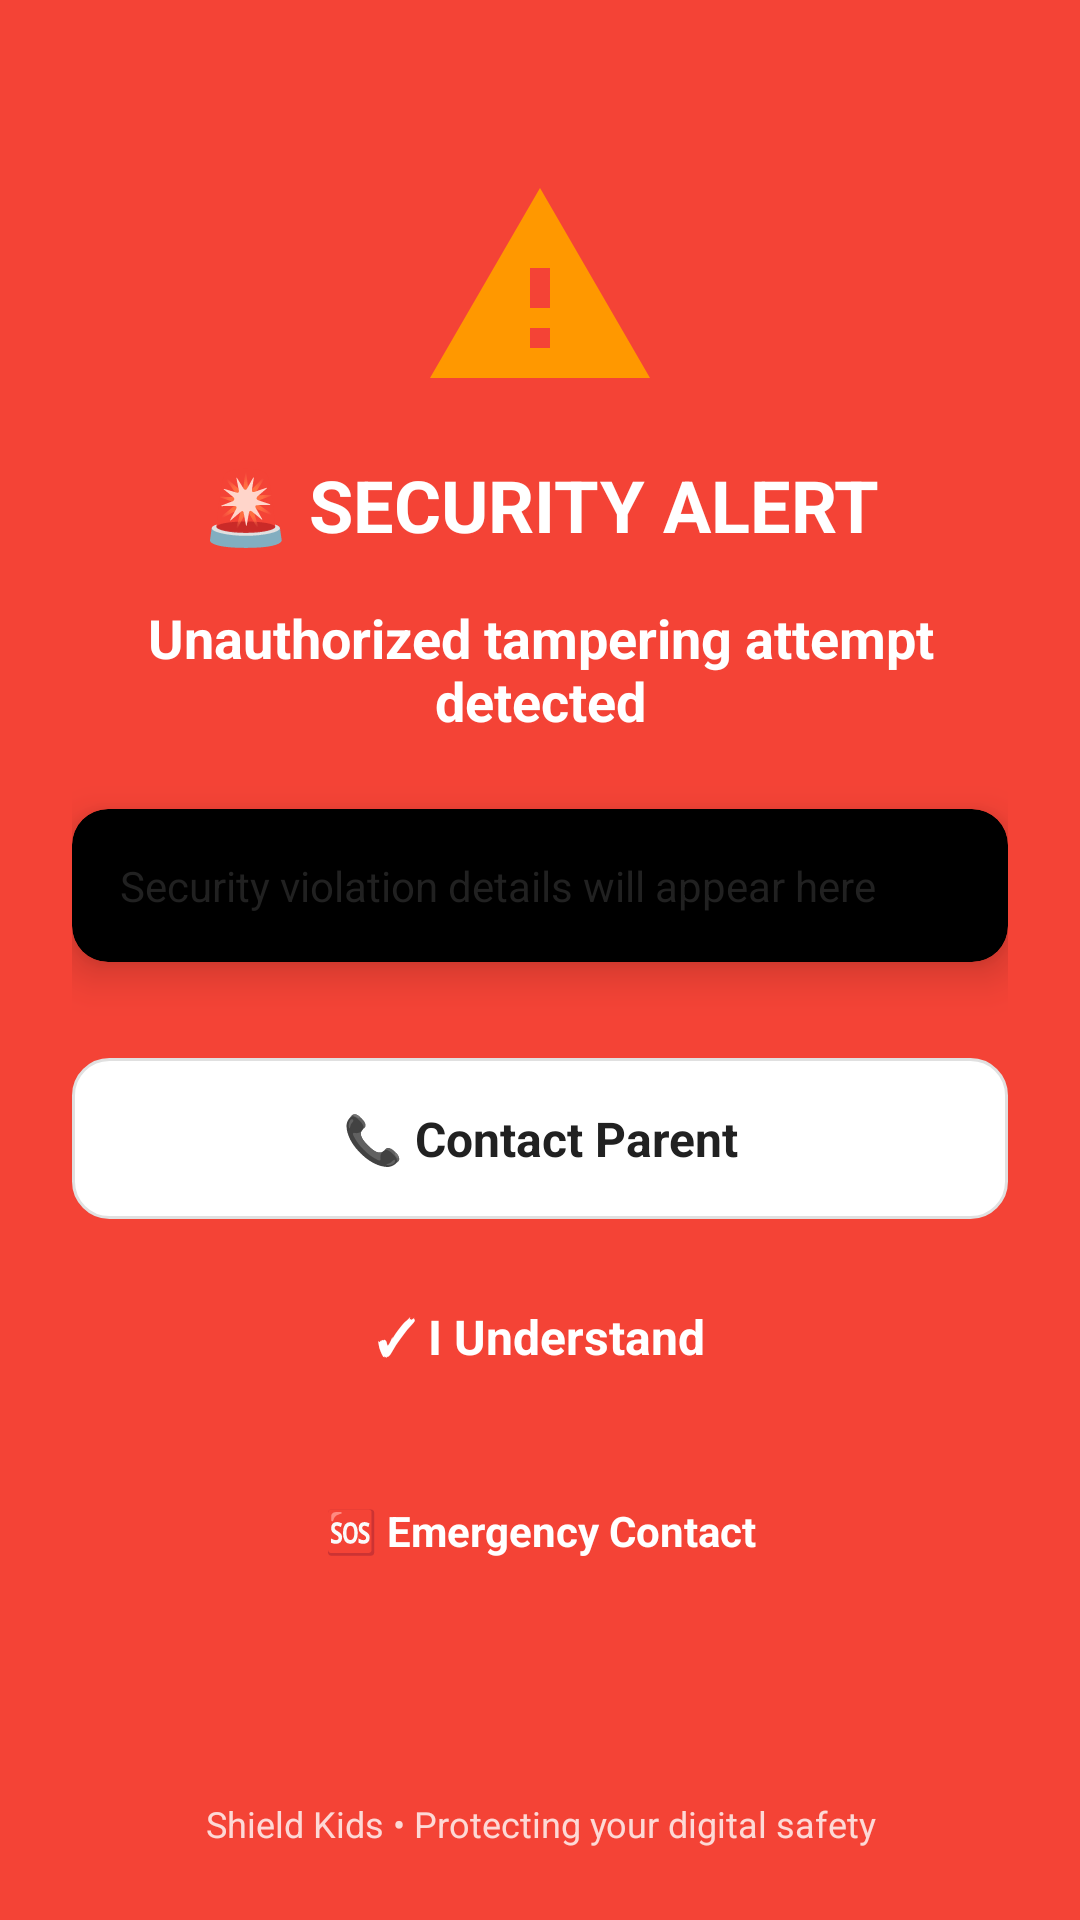

Screen size 1080*1920. Icon name, then its box in pixels as (x1, y1, x2, y2):
Warning Icon: (430, 188, 650, 378)
